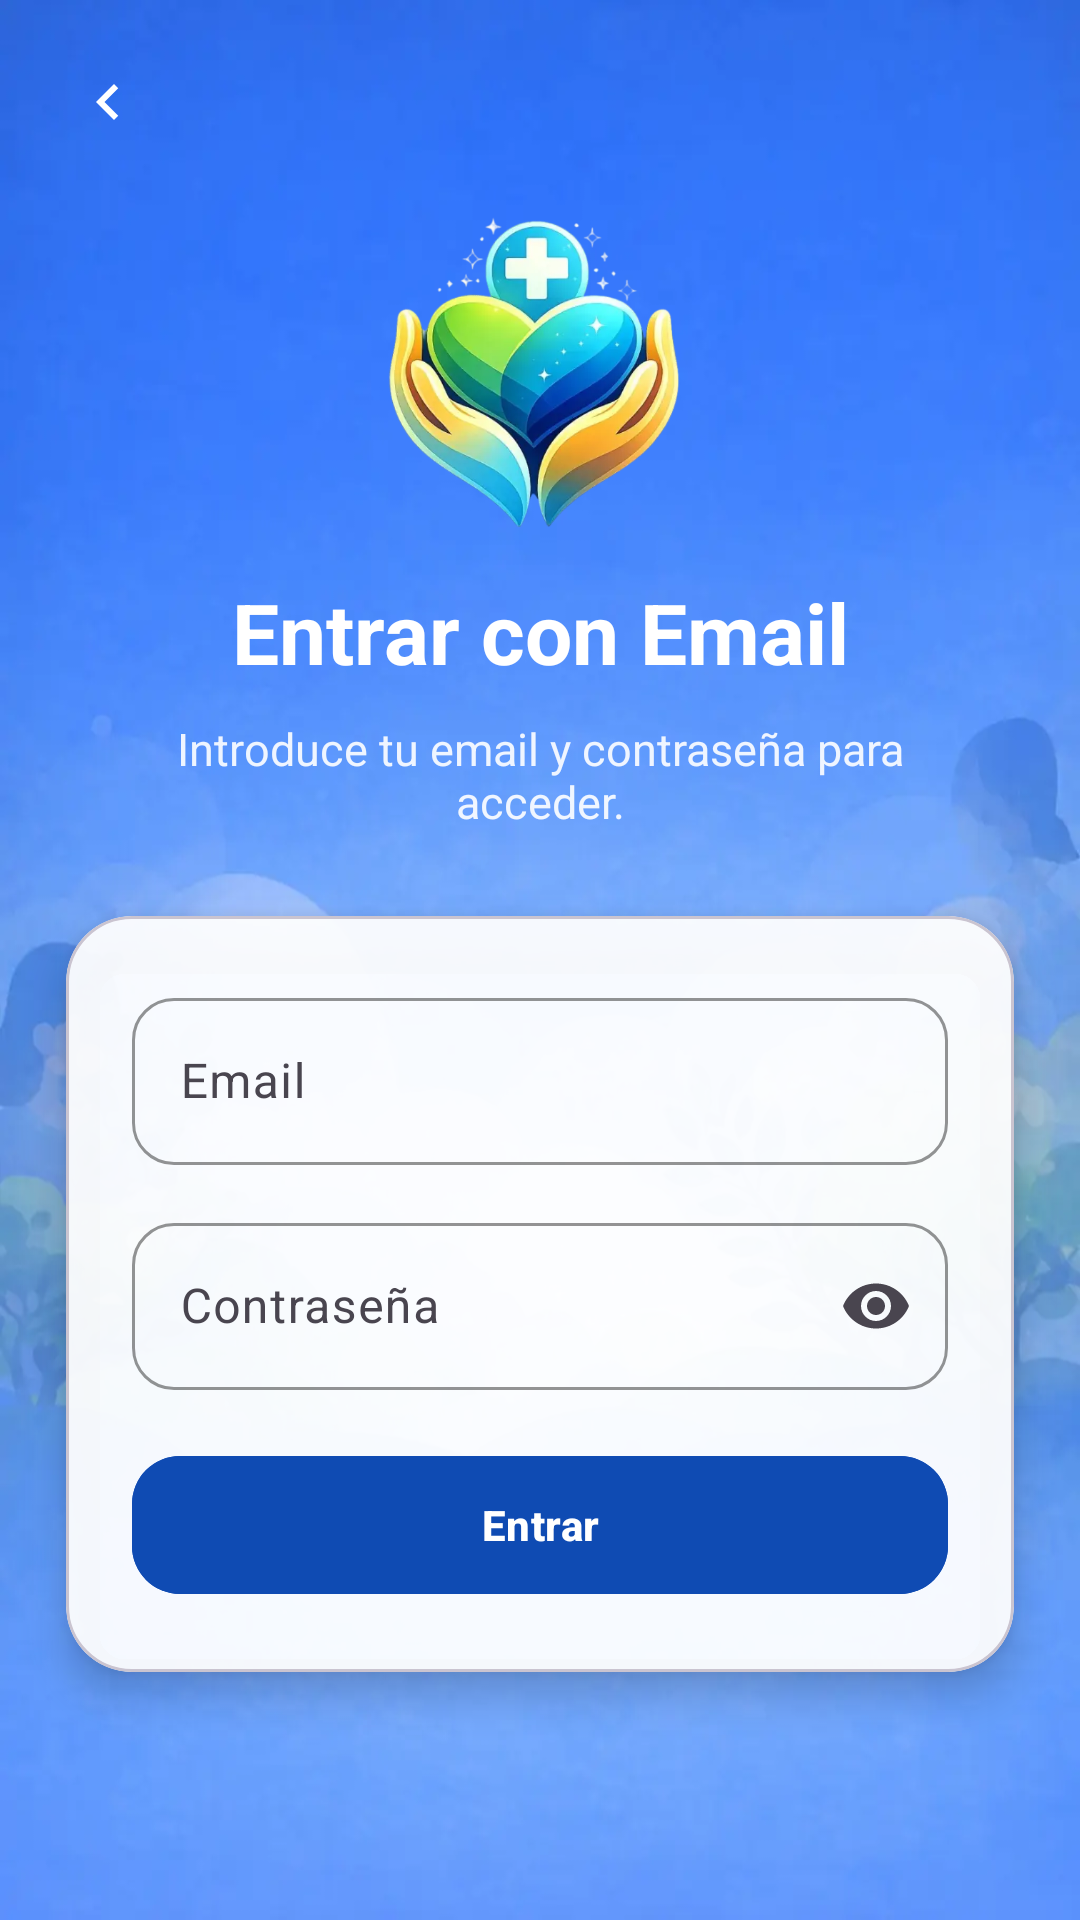

Icons on this 1080w x 1920h Android screen, each with its box as (x1, y1, x2, y2):
Volver: (96, 84, 118, 120)
